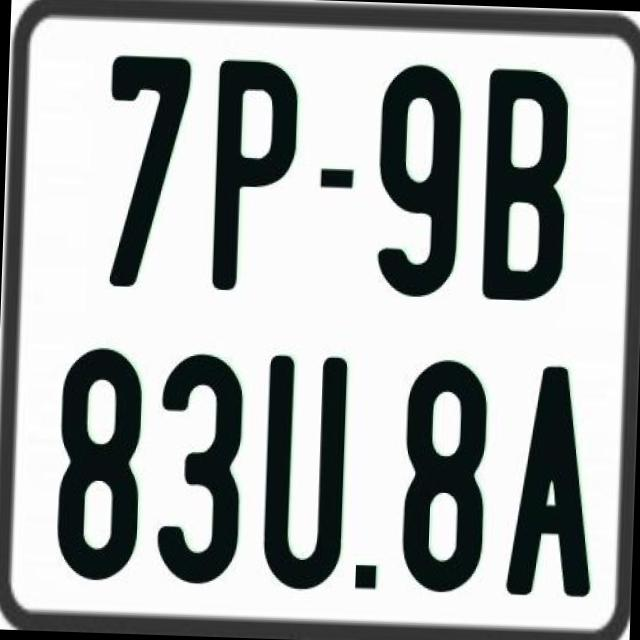3: (156, 348, 245, 582)
7: (102, 54, 189, 288)
8: (55, 347, 151, 582), (397, 358, 488, 600)
9: (374, 63, 462, 306)
A: (505, 360, 601, 602)
B: (482, 68, 572, 302)
P: (212, 59, 302, 298)
U: (257, 353, 348, 588)
